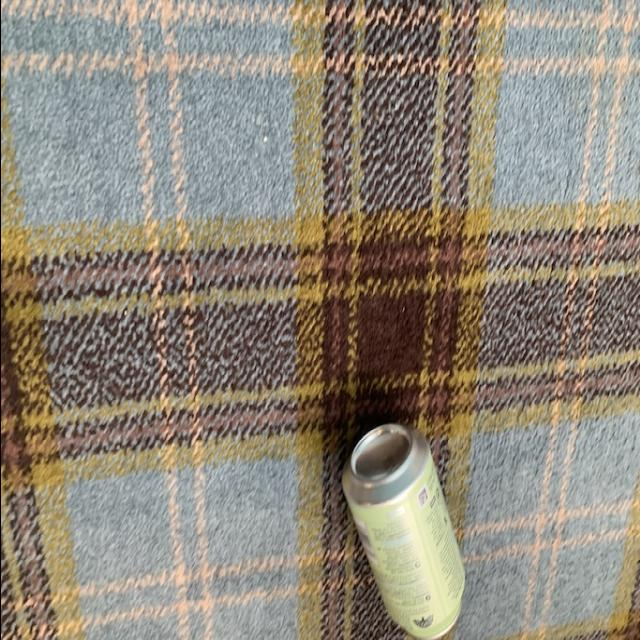litter: (337, 416, 468, 640)
